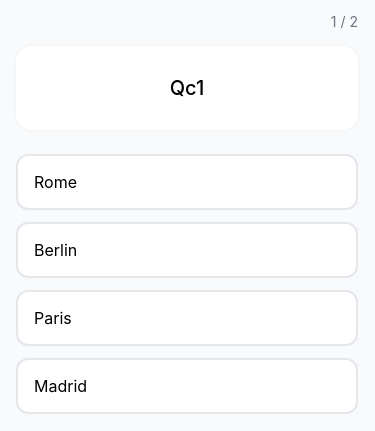
it: MultipleChoiceScreen › advances to next card after 1 second timeout
expect the text "Qc1" is shown: met, box [170,74,204,102]
Click the text "Paris" at point(53, 318), box [34,308,72,328]
Wait 1000 ms
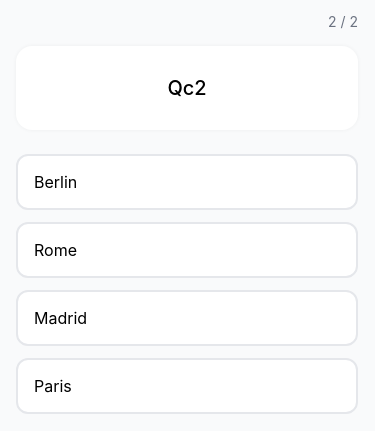
expect the text "Qc2" is shown: met, box [167,74,207,102]
